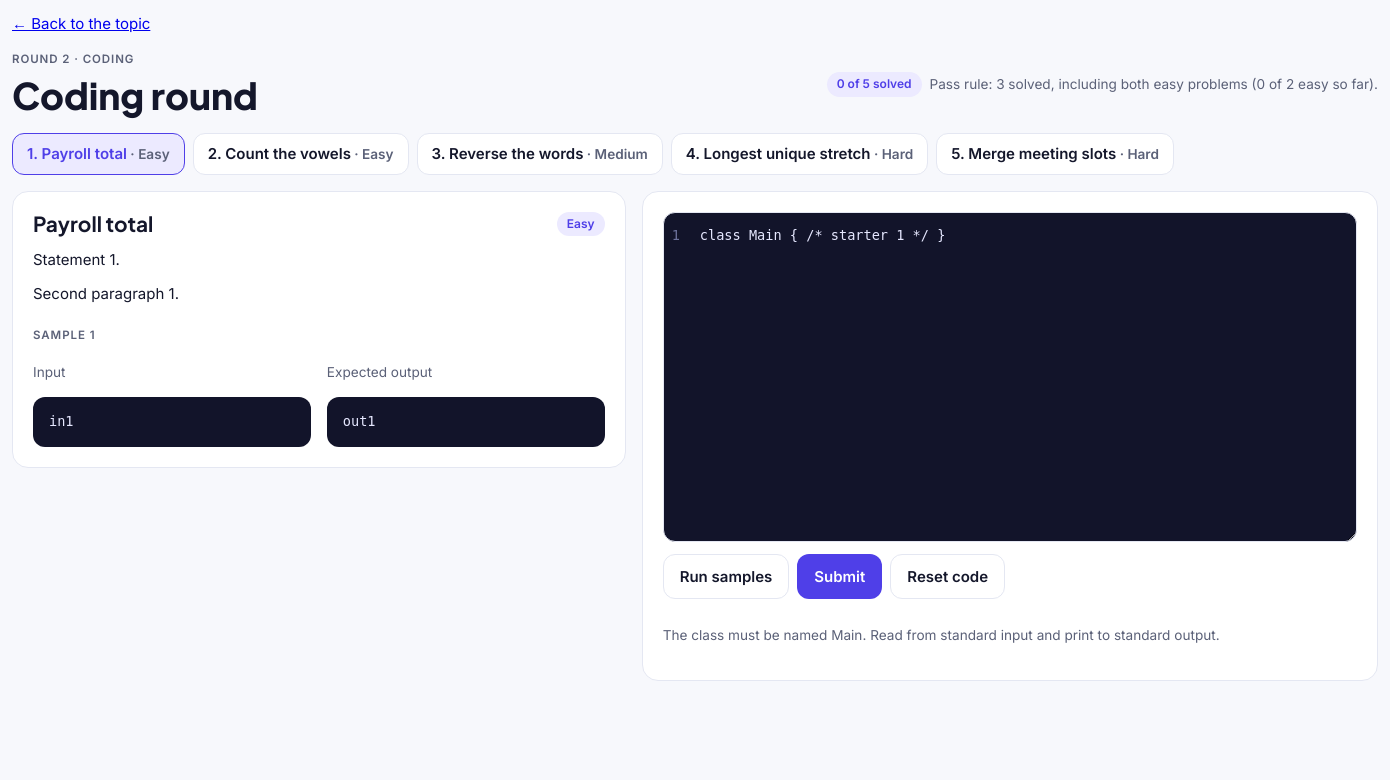
Test: writing and running code › Reset code restores the starter code
The width and height of the screenshot is (1390, 780).
Replace the text in the text box named "Java code" with "junk" at point(1022, 377), box [688,212,1356,541]
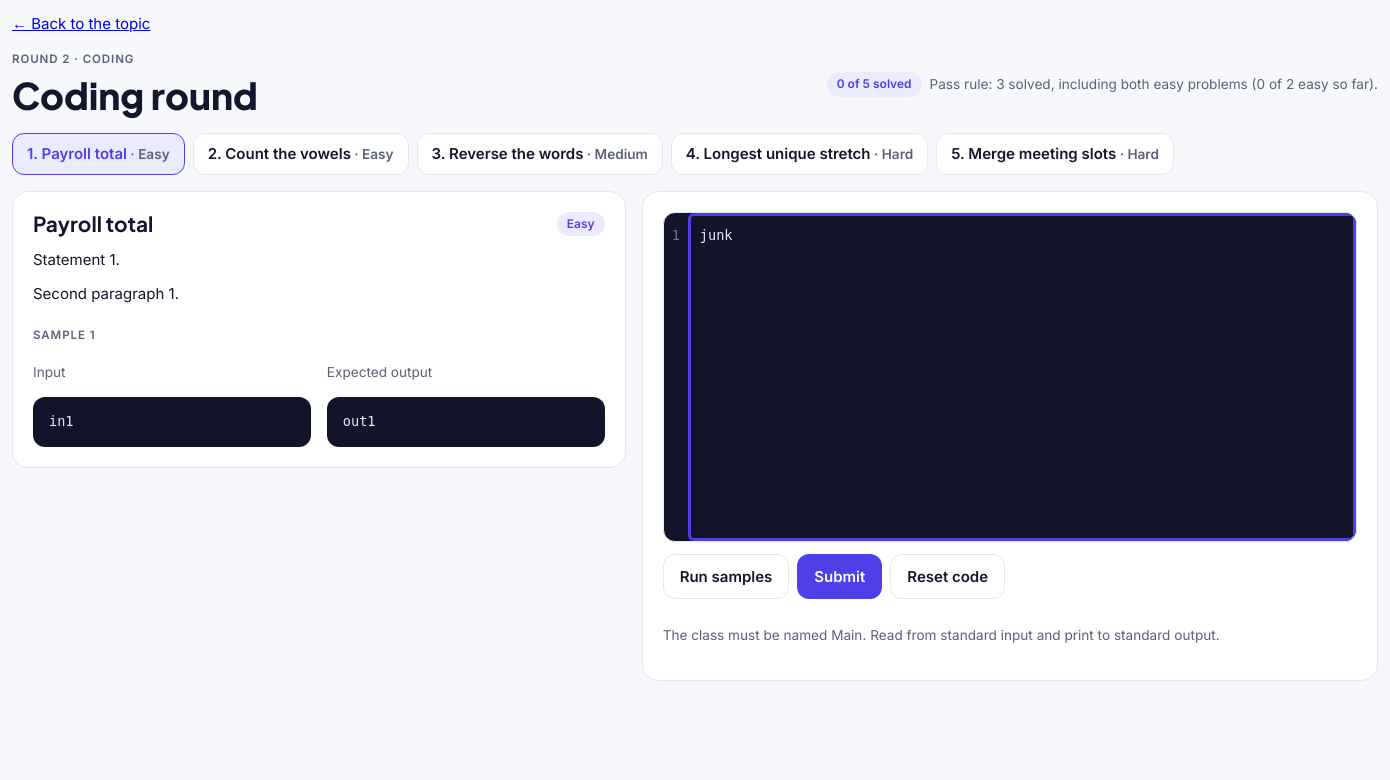
Click the button "Reset code" at point(948, 577), box [890,554,1005,599]
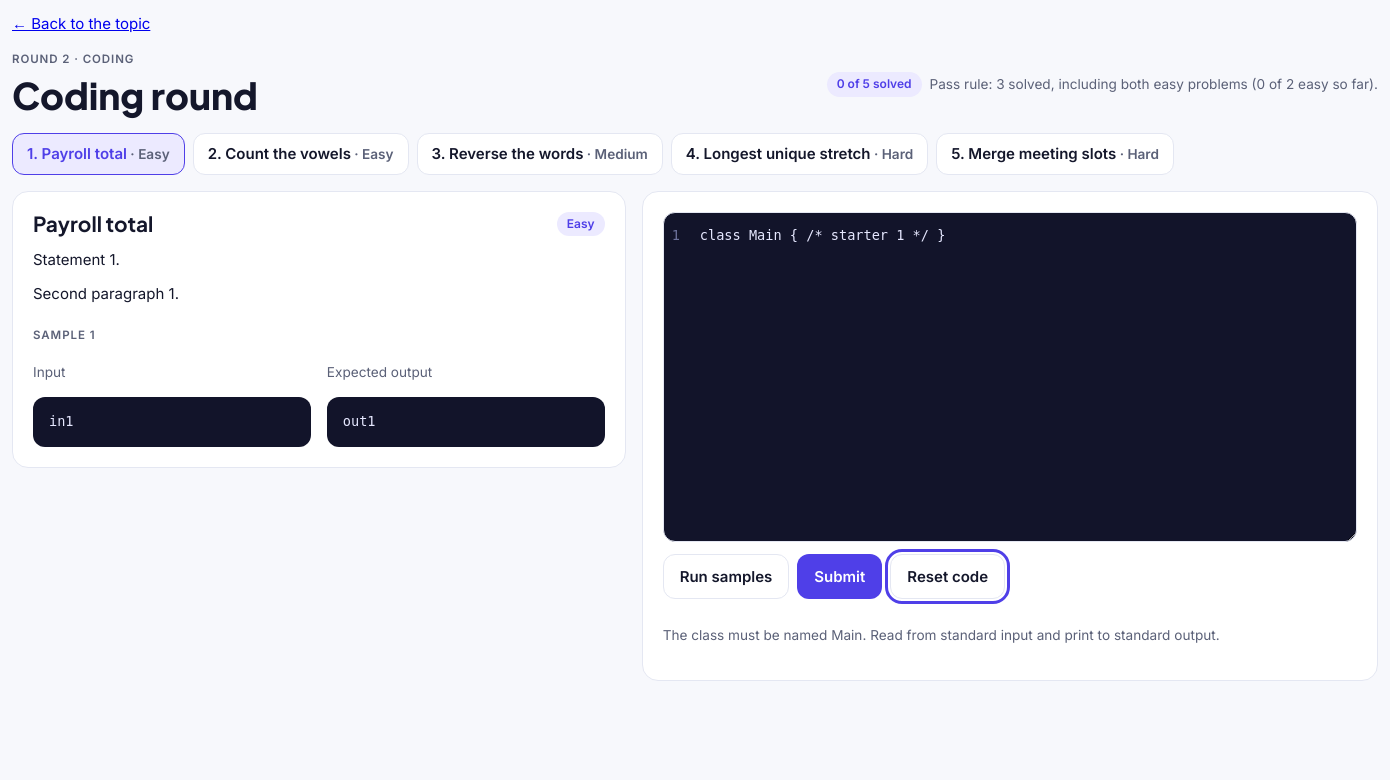
Result: the text box named "Java code" holds "class Main { /* starter 1 */ }" at [688,212,1356,541]
